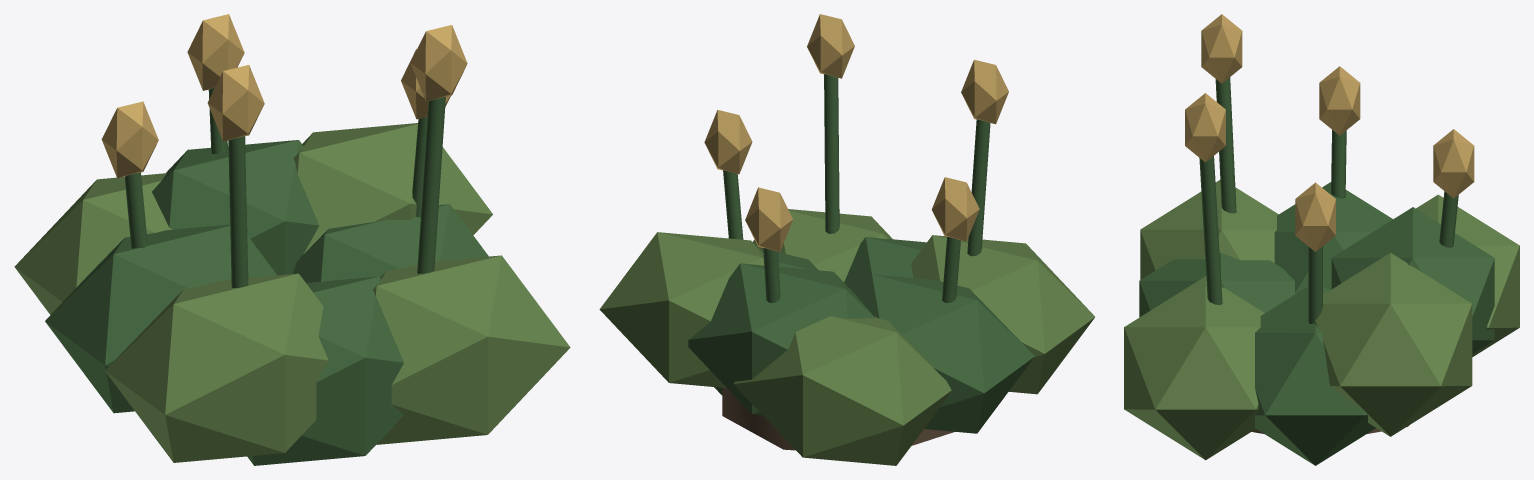
File: plant-moss-3.glb
The picture shows the model from 3 angles, left to right: view 1: azimuth 30°, elevation 25°; view 2: azimuth 150°, elevation 25°; view 3: azimuth 270°, elevation 25°; orthographic projection. The views are drawn at different scales.
Parts seen in each view (by area): view 1: plant-moss-3-visual; view 2: plant-moss-3-visual; view 3: plant-moss-3-visual.
Boxes of the visible parts, bbox=[...] form: plant-moss-3-visual: bbox=[14, 14, 570, 465]; plant-moss-3-visual: bbox=[599, 14, 1094, 465]; plant-moss-3-visual: bbox=[1124, 14, 1519, 465].
Size of the model in its own units: 0.5082 by 0.455 by 0.4849.
